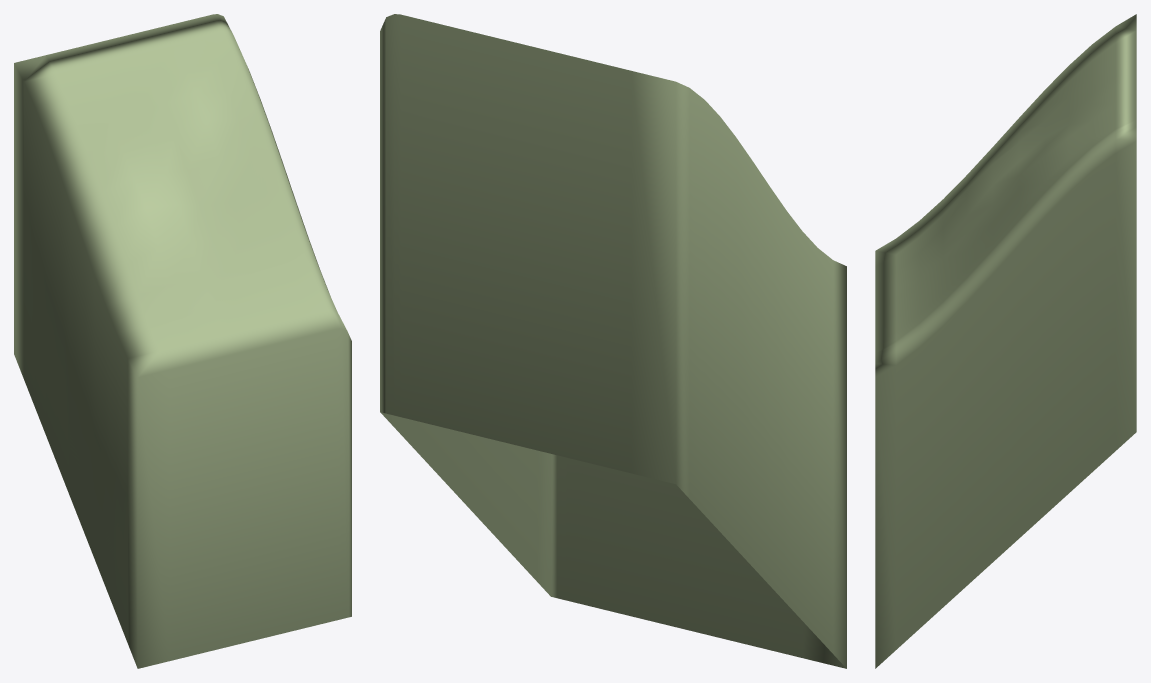
The model's file is ground-ramp-r-11.glb.
3 renders of one model, left to right at view 1: azimuth 30°, elevation 25°; view 2: azimuth 150°, elevation 25°; view 3: azimuth 270°, elevation 25°, orthographic. The views are drawn at different scales.
Parts seen in each view (by area): view 1: ground-ramp-r-11; view 2: ground-ramp-r-11; view 3: ground-ramp-r-11.
Part boxes in pixels (left/top/right/bottom): ground-ramp-r-11: left=14, top=14, right=351, bottom=668; ground-ramp-r-11: left=380, top=14, right=846, bottom=668; ground-ramp-r-11: left=875, top=14, right=1136, bottom=668.
Bounding box in the file's own units: 1 × 2.3 × 1.
